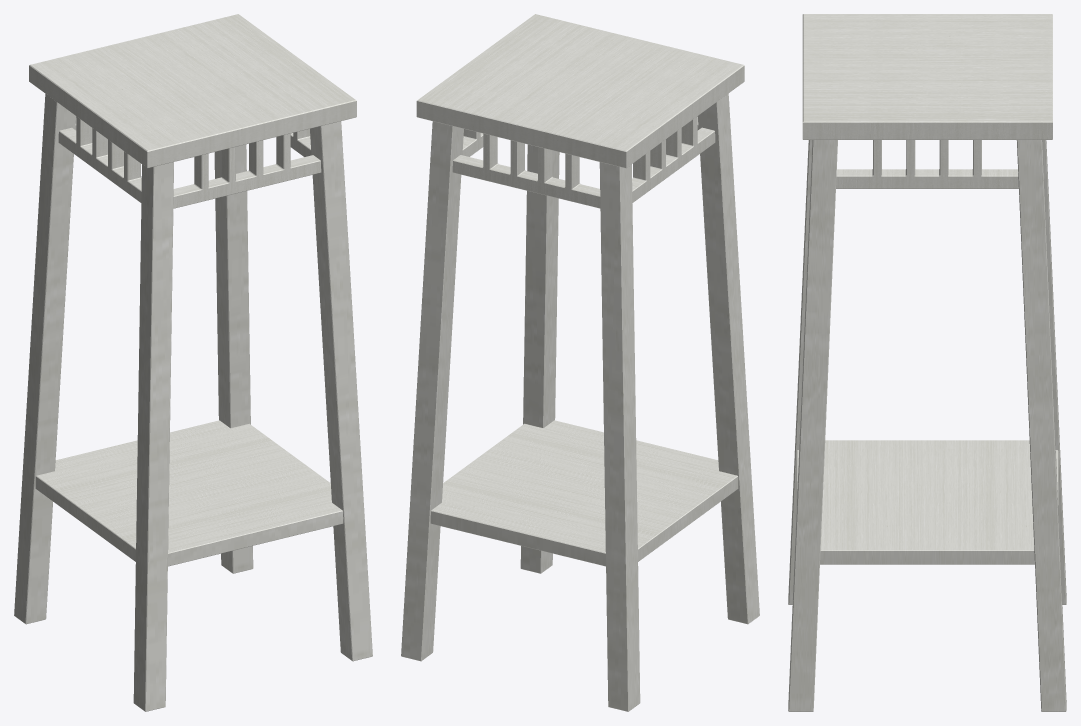
The model's file is Stool.FBX.
The picture shows the model from 3 angles, left to right: view 1: azimuth 30°, elevation 25°; view 2: azimuth 150°, elevation 25°; view 3: azimuth 270°, elevation 25°; orthographic projection. The views are drawn at different scales.
Visible parts, largest first — view 1: stool; view 2: stool; view 3: stool.
Part boxes in pixels (x1,y1,x2,y2): stool: (14,14,372,711); stool: (401,14,759,711); stool: (788,14,1066,711).
Size of the model in its own units: 36.37 by 84.48 by 36.37.
